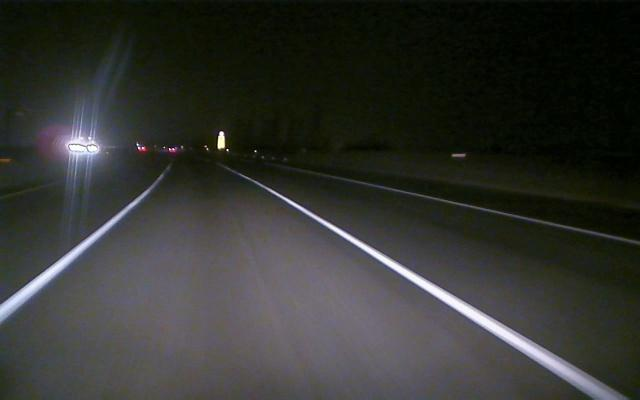lane: (234, 172, 626, 398), (345, 177, 640, 245), (1, 189, 150, 322)
